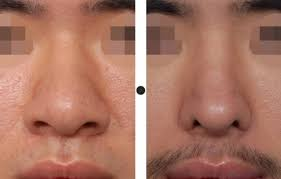n.blunt: (186, 20, 249, 133)
